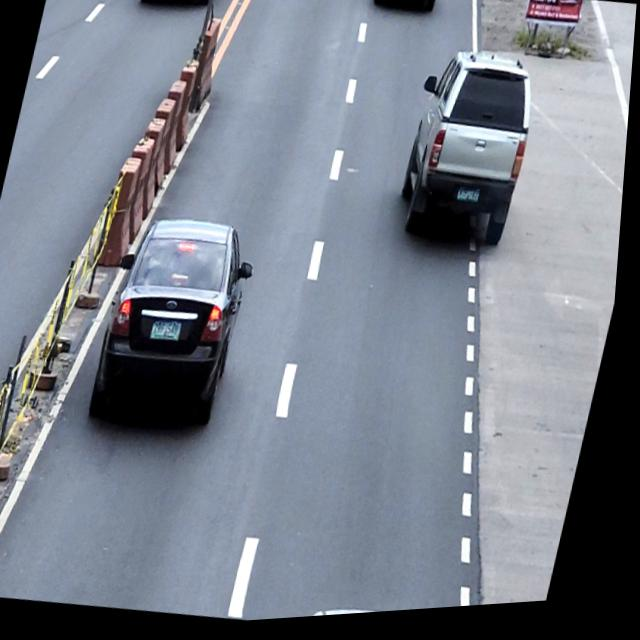Car: (90, 208, 269, 439), (392, 46, 550, 260), (137, 0, 228, 18)
License-Plate: (153, 318, 189, 346), (459, 190, 485, 212)
